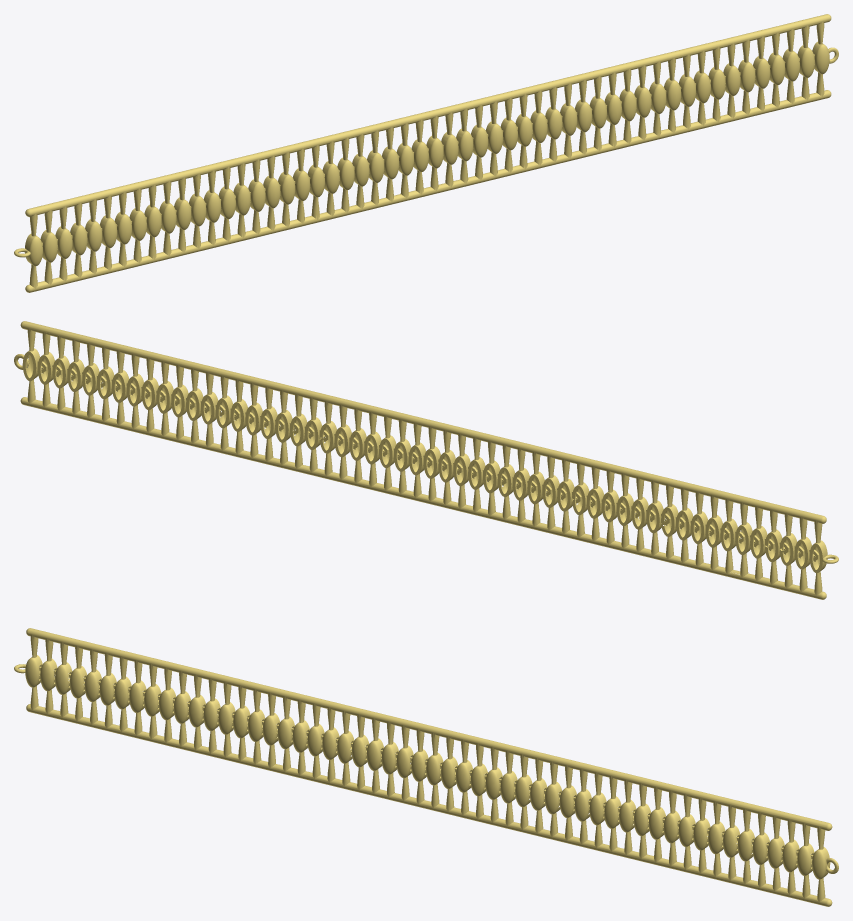
Rendered from yzn5-74.glb.
3 renders of one model, top to bottom at view 1: azimuth 30°, elevation 25°; view 2: azimuth 150°, elevation 25°; view 3: azimuth 330°, elevation 25°, orthographic.
Visible parts, largest first — view 1: Renderer Node; view 2: Renderer Node; view 3: Renderer Node.
Part boxes in pixels (x1,y1,x2,y2): Renderer Node: (14, 14, 838, 292); Renderer Node: (14, 321, 838, 599); Renderer Node: (14, 628, 838, 906).
Size of the model in its own units: 175 by 16.95 by 3.15.
